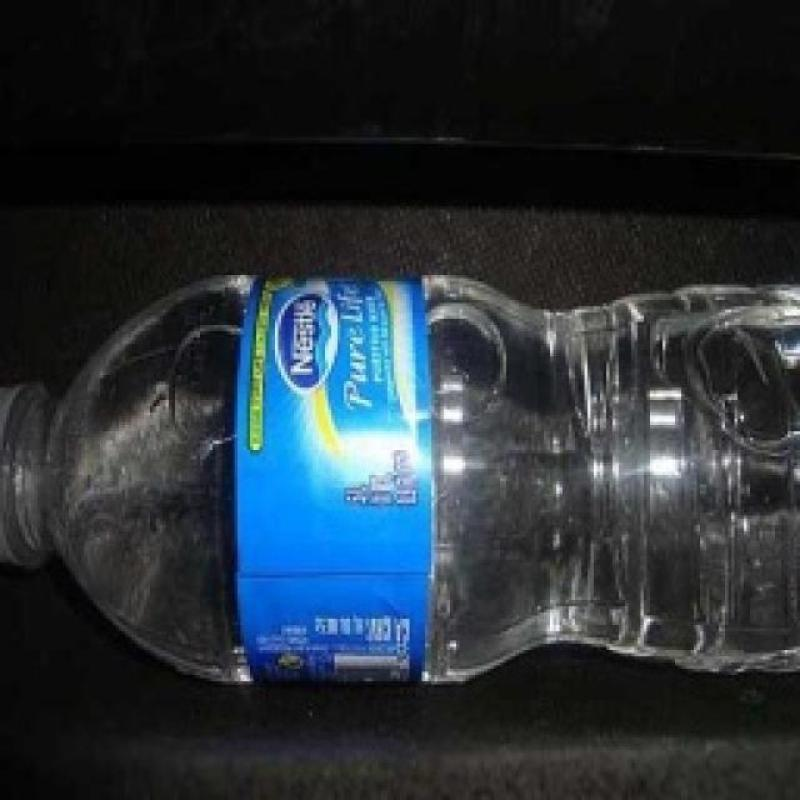botella: (0, 274, 800, 686)
